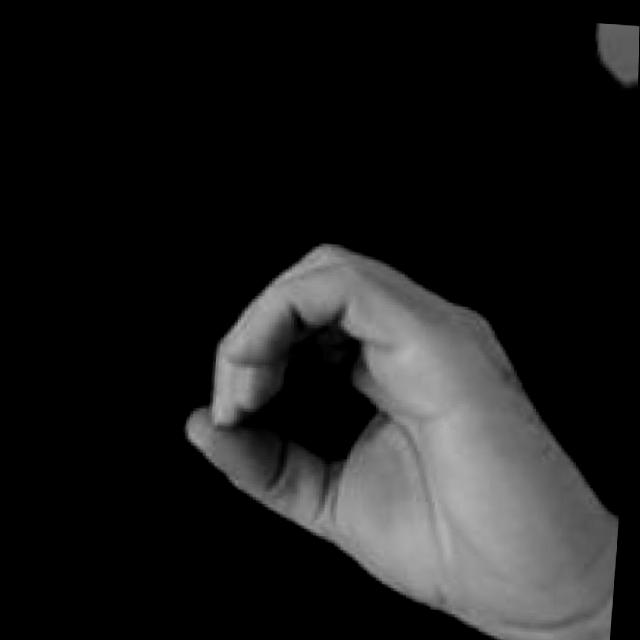O: (154, 224, 635, 640)
